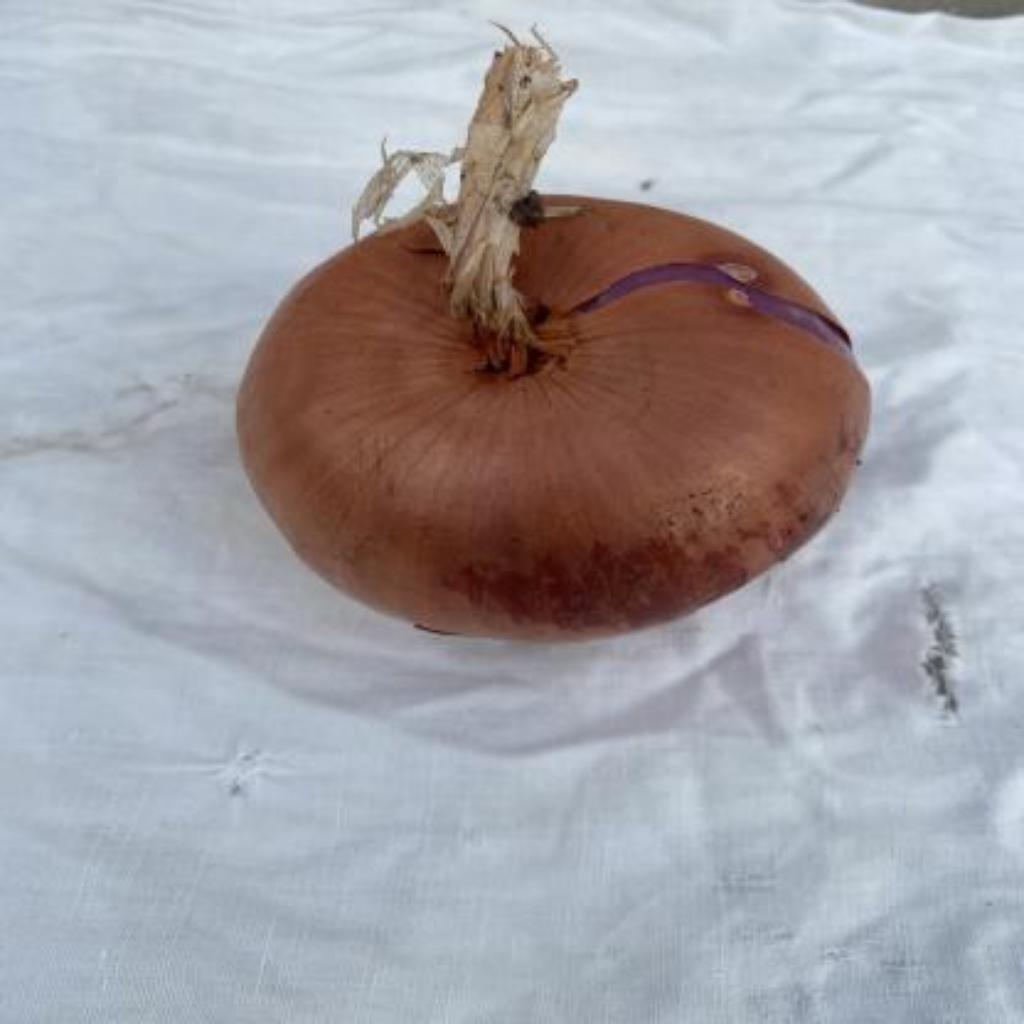Onion: (239, 37, 871, 639)
